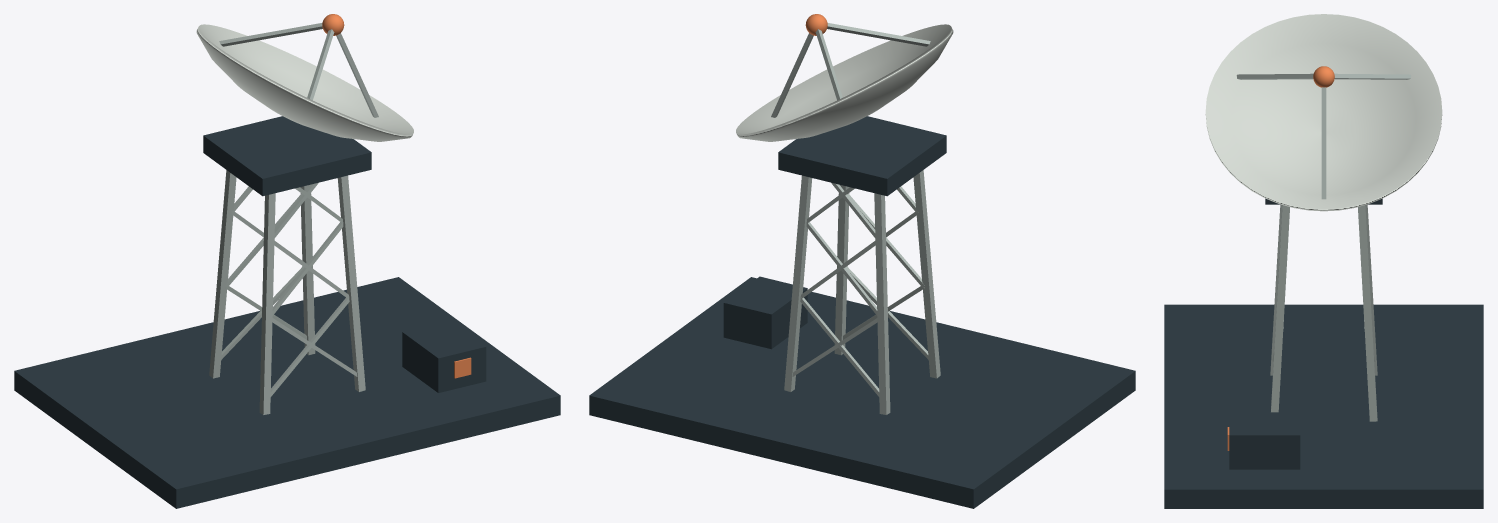
Rendered from relay.glb.
3 views of the same model, side by side, from view 1: azimuth 30°, elevation 25°; view 2: azimuth 150°, elevation 25°; view 3: azimuth 270°, elevation 25° (orthographic).
Parts seen in each view (by area): view 1: relay; view 2: relay; view 3: relay.
Part boxes in pixels (x1=…): relay: x1=14, y1=14, x2=560, y2=508; relay: x1=589, y1=14, x2=1135, y2=508; relay: x1=1164, y1=14, x2=1483, y2=508.
Size of the model in its own units: 3.7 by 3.46 by 2.7.
